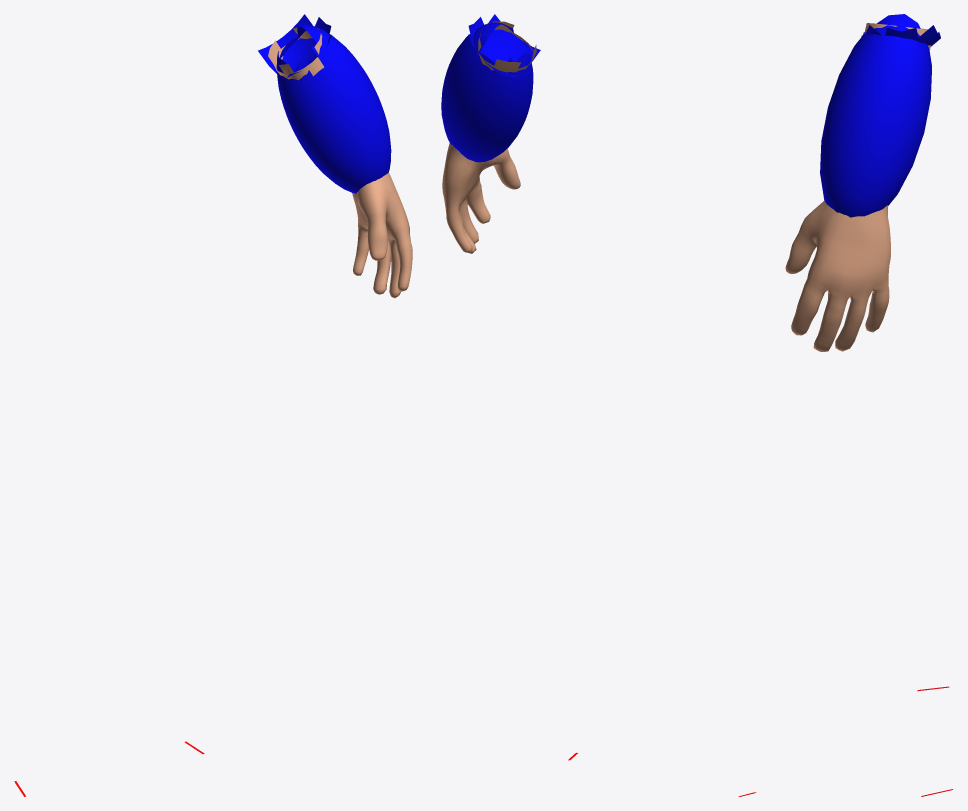
File: downhand1.obj
3 views of the same model, side by side, from view 1: azimuth 30°, elevation 25°; view 2: azimuth 150°, elevation 25°; view 3: azimuth 270°, elevation 25° (orthographic). The views are drawn at different scales.
Visible parts, largest first — view 1: superman:polySurface13, superman:humanBody, superman:polySurface11; view 2: superman:polySurface13, superman:humanBody, superman:polySurface11; view 3: superman:polySurface13, superman:humanBody, superman:polySurface11.
Part boxes in pixels (<box>): superman:polySurface13: <box>276,25,391,193</box>; superman:humanBody: <box>268,27,412,298</box>; superman:polySurface11: <box>258,14,331,78</box>; superman:polySurface13: <box>441,22,533,162</box>; superman:humanBody: <box>442,21,536,253</box>; superman:polySurface11: <box>468,14,540,77</box>; superman:polySurface13: <box>820,14,931,217</box>; superman:humanBody: <box>785,23,930,351</box>; superman:polySurface11: <box>863,25,940,46</box>.
Bounding box in the file's own units: 3.7 × 7.26 × 1.33.
